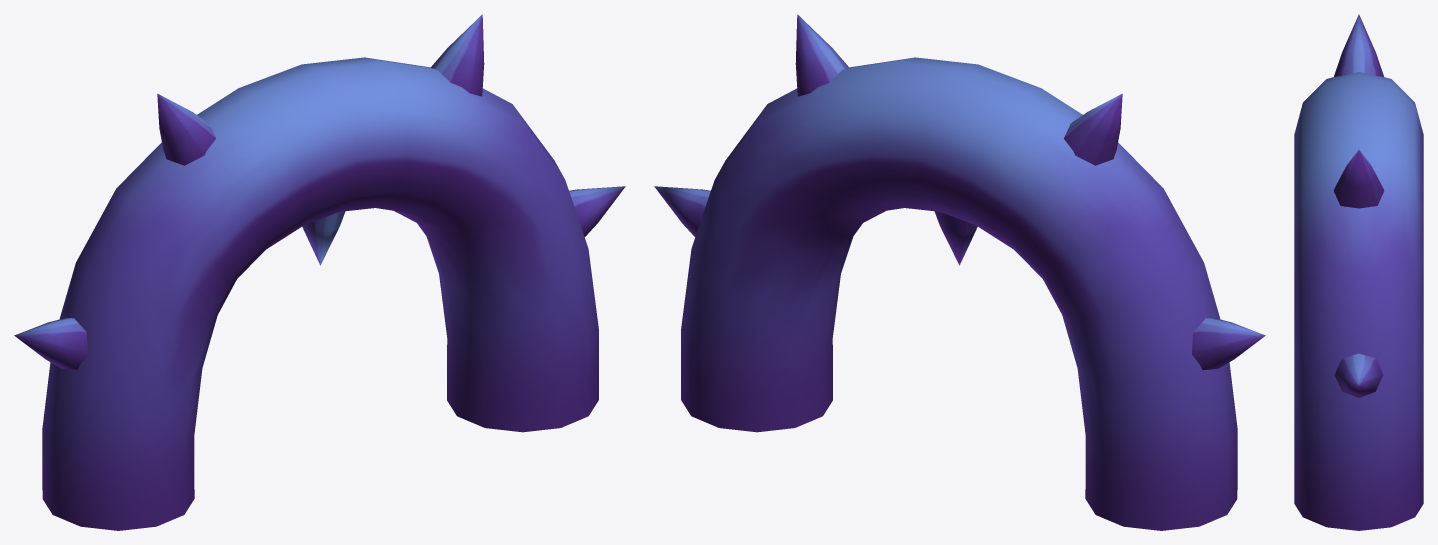
File: ThornVine_L_02.fbx
The picture shows the model from 3 angles, left to right: view 1: azimuth 30°, elevation 25°; view 2: azimuth 150°, elevation 25°; view 3: azimuth 270°, elevation 25°; orthographic projection. The views are drawn at different scales.
Parts seen in each view (by area): view 1: ThornVine_L_2; view 2: ThornVine_L_2; view 3: ThornVine_L_2.
Part boxes in pixels (x1=…): ThornVine_L_2: x1=14, y1=14, x2=625, y2=530; ThornVine_L_2: x1=654, y1=14, x2=1265, y2=530; ThornVine_L_2: x1=1294, y1=14, x2=1423, y2=530.
Bounding box in the file's own units: 92.92 × 57.47 × 20.
